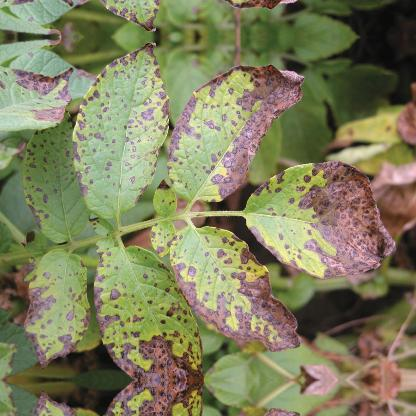Early-Blight: (2, 39, 400, 379), (169, 49, 317, 213), (150, 211, 312, 351), (74, 40, 183, 224), (242, 162, 402, 280), (90, 236, 218, 378), (18, 221, 106, 366), (8, 120, 88, 244), (1, 53, 81, 129), (90, 380, 218, 416), (1, 0, 81, 19)
